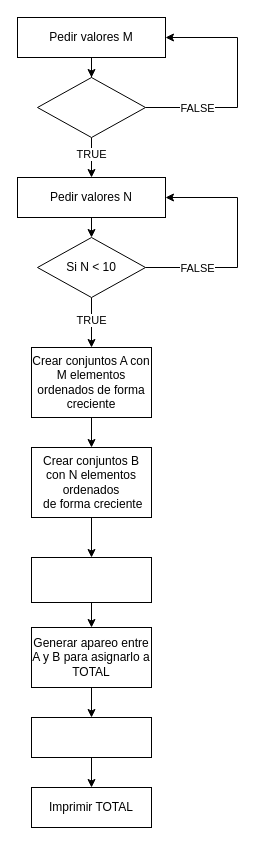
The diagram is 263 pixels wide and 845 high, and some of its shapes have lost their labels. Each missing label, with the box of its shape:
Crear un conjunto TOTAL: (30, 556, 152, 602)
Ordenar Total: (30, 716, 152, 758)
Si M < 25: (36, 76, 146, 138)
